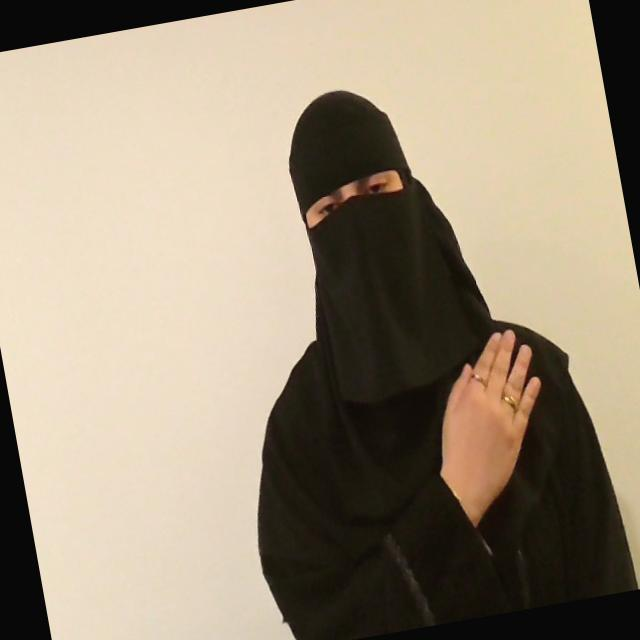result: (416, 322, 563, 530)
